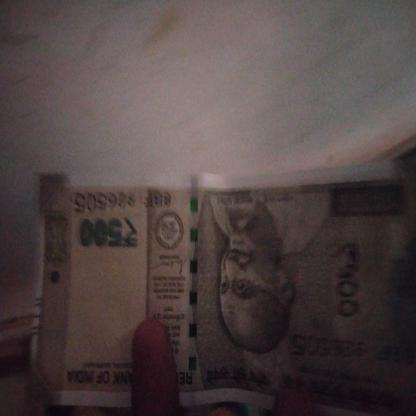New500Front: (40, 177, 415, 393)
